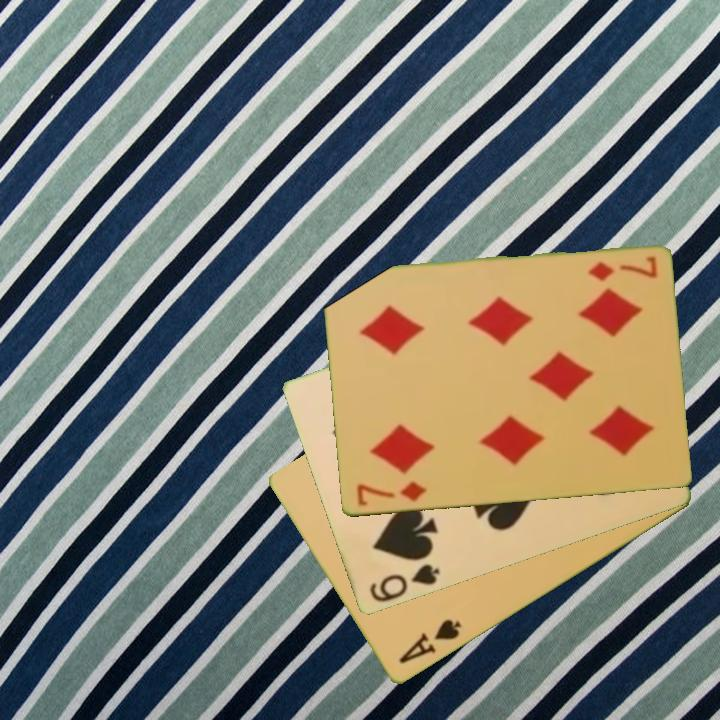6s: (366, 561, 442, 606)
7d: (352, 478, 429, 510), (584, 253, 660, 285)
As: (395, 615, 465, 668)
